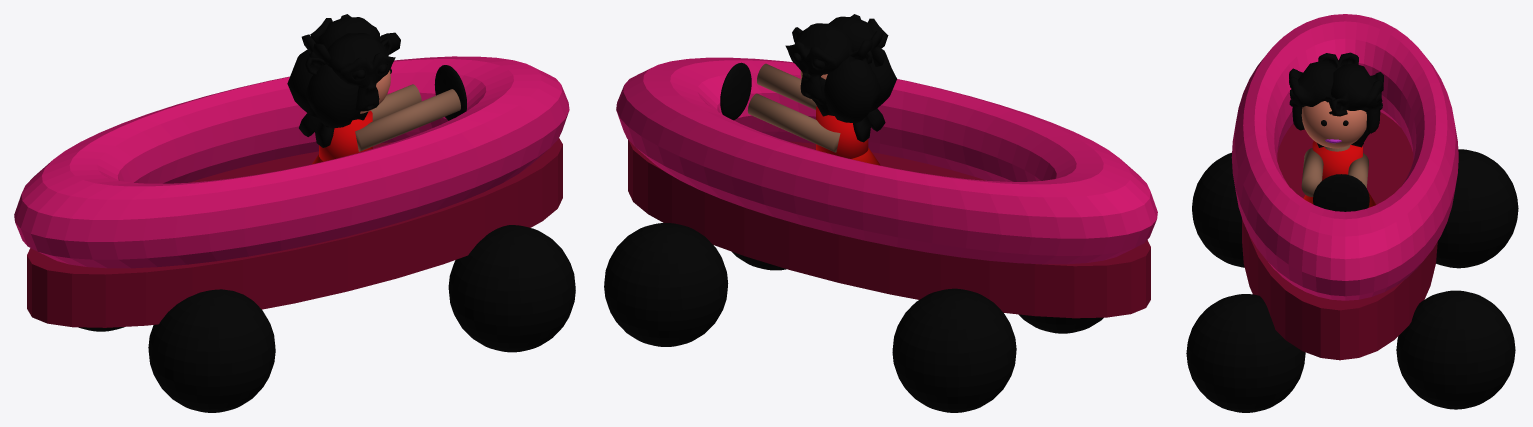
The model's file is donut.obj.
3 renders of one model, left to right at view 1: azimuth 30°, elevation 25°; view 2: azimuth 150°, elevation 25°; view 3: azimuth 270°, elevation 25°, orthographic. The views are drawn at different scales.
Parts seen in each view (by area): view 1: Torus, Cylinder_Cylinder.002, Sphere.001, Sphere, Suzanne, Suzanne.002_Suzanne.004, Cylinder.003_Cylinder.004, Suzanne.001, Suzanne.003, Cylinder.005_Cylinder, Cylinder.004_Cylinder.008, Sphere.004; view 2: Torus, Cylinder_Cylinder.002, Sphere.002, Sphere.003, Suzanne.003, Suzanne.001, Cylinder.004_Cylinder.008, Sphere.004, Suzanne.002_Suzanne.004, Cylinder.005_Cylinder, Suzanne, Cylinder.003_Cylinder.004 (+1 smaller); view 3: Torus, Cylinder_Cylinder.002, Sphere.003, Sphere.001, Sphere.002, Sphere, Suzanne.001, Sphere.007, Suzanne, Sphere.004, Cylinder.005_Cylinder, Cylinder.003_Cylinder.004 (+2 smaller).
Part boxes in pixels (box(x1,y1,x2,y2)): Torus: box(14, 56, 569, 268); Cylinder_Cylinder.002: box(27, 138, 562, 327); Sphere.001: box(448, 225, 575, 352); Sphere: box(148, 289, 275, 412); Suzanne: box(305, 33, 395, 111); Suzanne.002_Suzanne.004: box(305, 43, 368, 147); Cylinder.003_Cylinder.004: box(355, 89, 460, 151); Suzanne.001: box(309, 14, 400, 57); Suzanne.003: box(287, 34, 318, 136); Cylinder.005_Cylinder: box(319, 111, 372, 161); Cylinder.004_Cylinder.008: box(371, 84, 421, 121); Sphere.004: box(434, 65, 466, 120); Torus: box(616, 57, 1157, 264); Cylinder_Cylinder.002: box(628, 140, 1150, 318); Sphere.002: box(892, 288, 1016, 412); Sphere.003: box(604, 223, 728, 346); Suzanne.003: box(812, 40, 880, 142); Suzanne.001: box(785, 23, 872, 99); Cylinder.004_Cylinder.008: box(747, 93, 840, 152); Sphere.004: box(720, 62, 751, 120); Suzanne.002_Suzanne.004: box(817, 31, 896, 131); Cylinder.005_Cylinder: box(816, 106, 868, 158); Suzanne: box(828, 14, 888, 66); Cylinder.003_Cylinder.004: box(757, 63, 816, 109); Torus: box(1231, 14, 1458, 300); Cylinder_Cylinder.002: box(1242, 112, 1437, 360); Sphere.003: box(1396, 290, 1515, 409); Sphere.001: box(1186, 294, 1305, 412); Sphere.002: box(1436, 149, 1518, 268); Sphere: box(1192, 152, 1244, 267); Suzanne.001: box(1331, 63, 1383, 133); Sphere.007: box(1301, 101, 1366, 148); Suzanne: box(1289, 61, 1336, 130); Sphere.004: box(1313, 174, 1369, 211); Cylinder.005_Cylinder: box(1312, 141, 1362, 180); Cylinder.003_Cylinder.004: box(1301, 148, 1323, 196).
Bounding box in the file's own units: 9.82 × 5.38 × 5.57.
